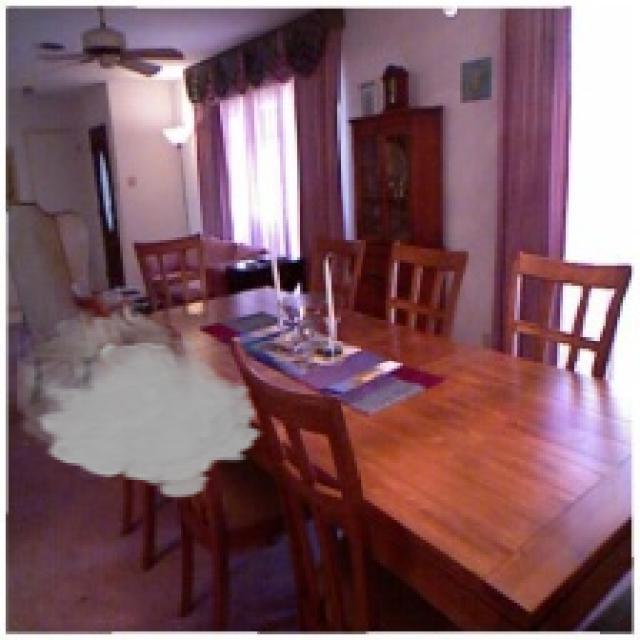Smoke: (17, 300, 266, 500)
